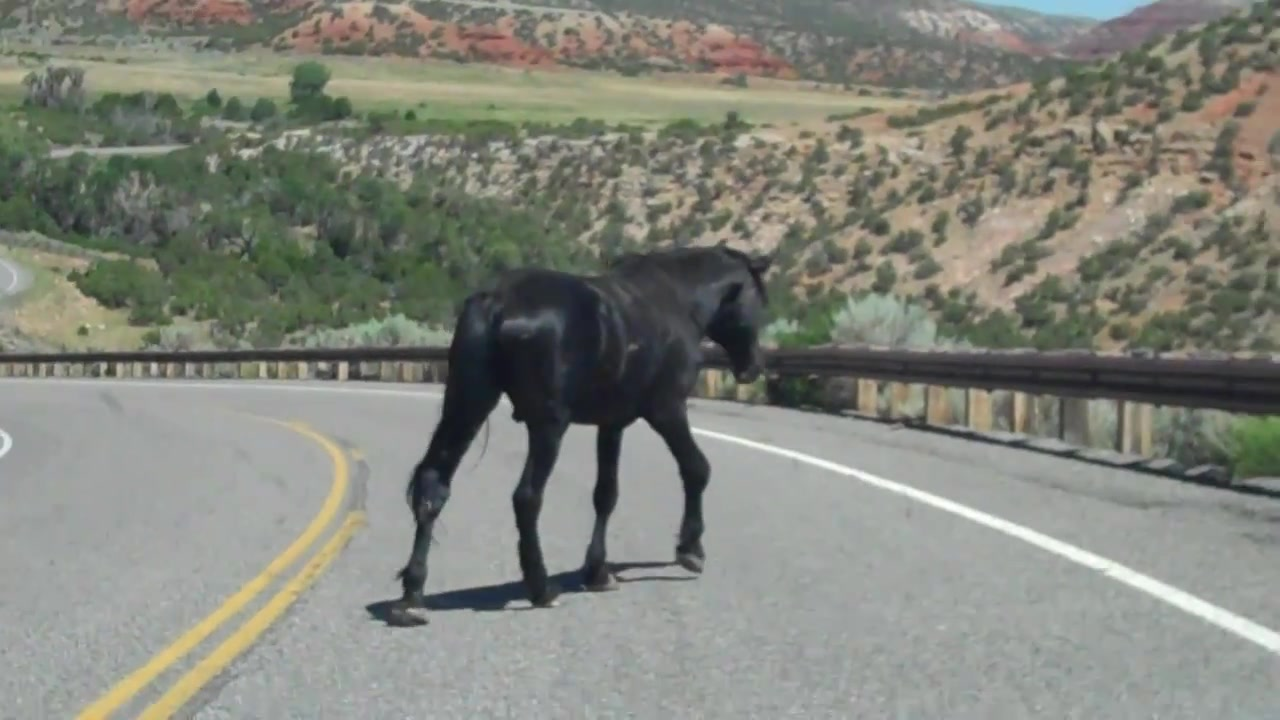horse: (386, 243, 776, 629)
